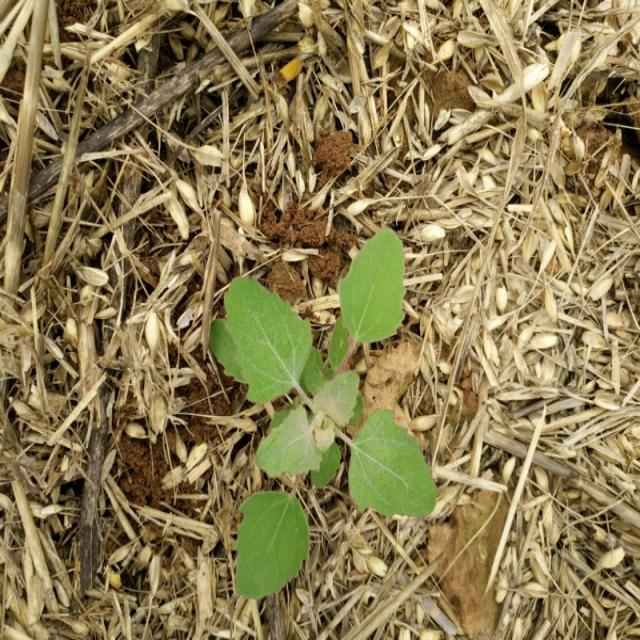ca: (219, 230, 436, 598)
